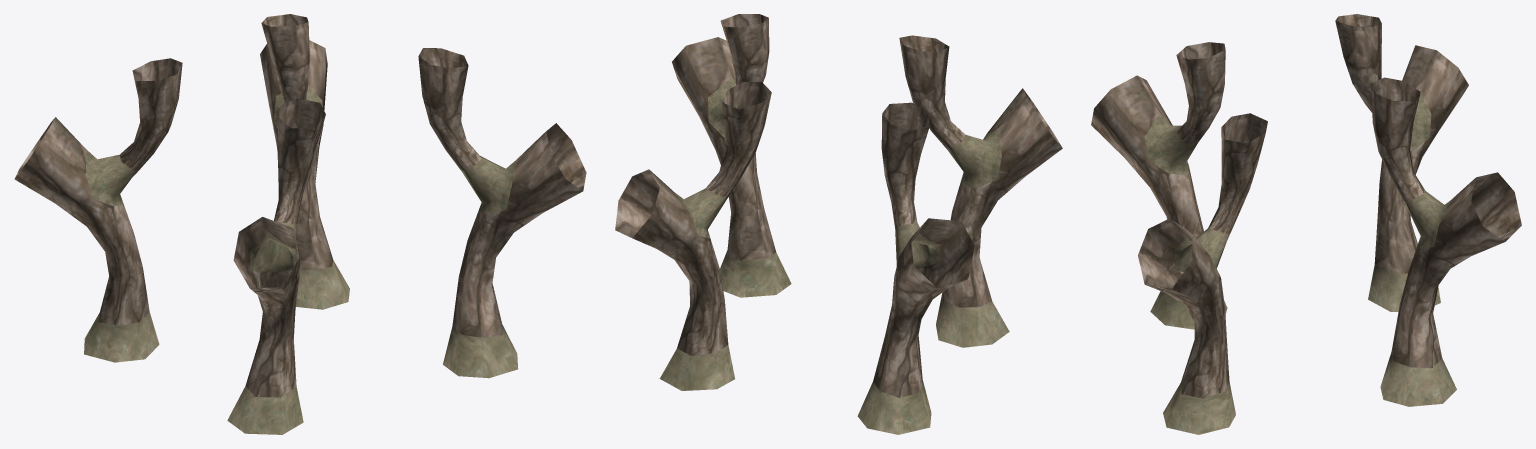
The model's file is EKH_JAIL_PS_JA_OUB_PILLARS746__GX.fbx.
3 renders of one model, left to right at view 1: azimuth 30°, elevation 25°; view 2: azimuth 150°, elevation 25°; view 3: azimuth 270°, elevation 25°, orthographic. The views are drawn at different scales.
Parts seen in each view (by area): view 1: EKH_JAIL_PS_JA_OUB_PILLARS746__GX; view 2: EKH_JAIL_PS_JA_OUB_PILLARS746__GX; view 3: EKH_JAIL_PS_JA_OUB_PILLARS746__GX.
Boxes of the visible parts, x1,y1,x2,y2 form: EKH_JAIL_PS_JA_OUB_PILLARS746__GX: [14, 14, 586, 434]; EKH_JAIL_PS_JA_OUB_PILLARS746__GX: [615, 14, 1062, 434]; EKH_JAIL_PS_JA_OUB_PILLARS746__GX: [1091, 14, 1521, 434].
Size of the model in its own units: 99142 by 64171 by 87197.
Materials: 2 (2 with a texture image).
